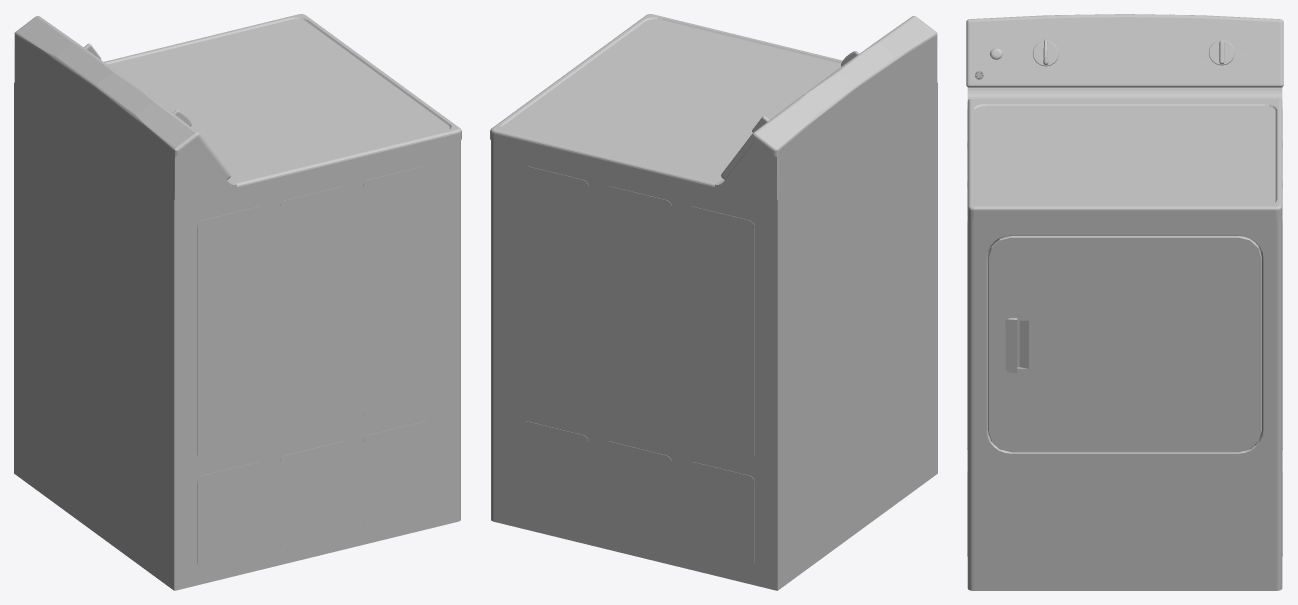
3 views of the same model, side by side, from view 1: azimuth 30°, elevation 25°; view 2: azimuth 150°, elevation 25°; view 3: azimuth 270°, elevation 25° (orthographic).
Parts seen in each view (by area): view 1: mesh13_mesh13-geometry; view 2: mesh13_mesh13-geometry; view 3: mesh13_mesh13-geometry, mesh14_mesh14-geometry, mesh12_mesh12-geometry.
Boxes of the visible parts, box(x1,y1,x2,y2) form: mesh13_mesh13-geometry: box(14, 14, 461, 590); mesh13_mesh13-geometry: box(490, 14, 937, 590); mesh13_mesh13-geometry: box(966, 14, 1283, 590); mesh14_mesh14-geometry: box(1198, 35, 1245, 70); mesh12_mesh12-geometry: box(1029, 37, 1062, 69).
Size of the model in its own units: 0.4926 by 0.732 by 0.4706.
